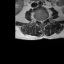CCS_normal: (41, 18, 43, 25)
LFS_stenosis: (44, 17, 46, 21)
LLS_normal: (43, 18, 44, 24)
RFS_normal: (38, 18, 40, 23)
RLS_normal: (40, 18, 41, 24)
